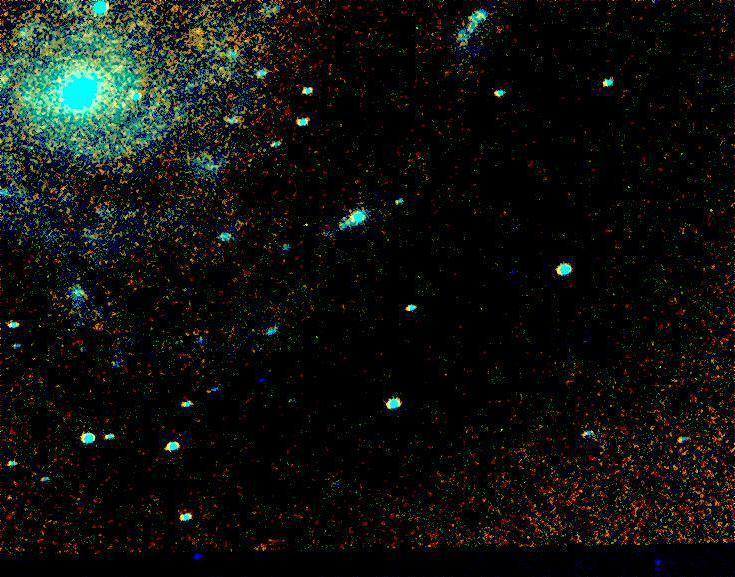star: (289, 209, 319, 239)
